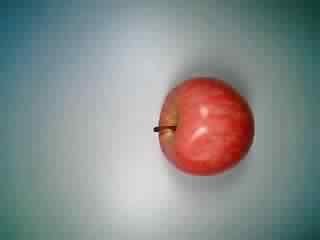apple: (152, 71, 258, 177)
